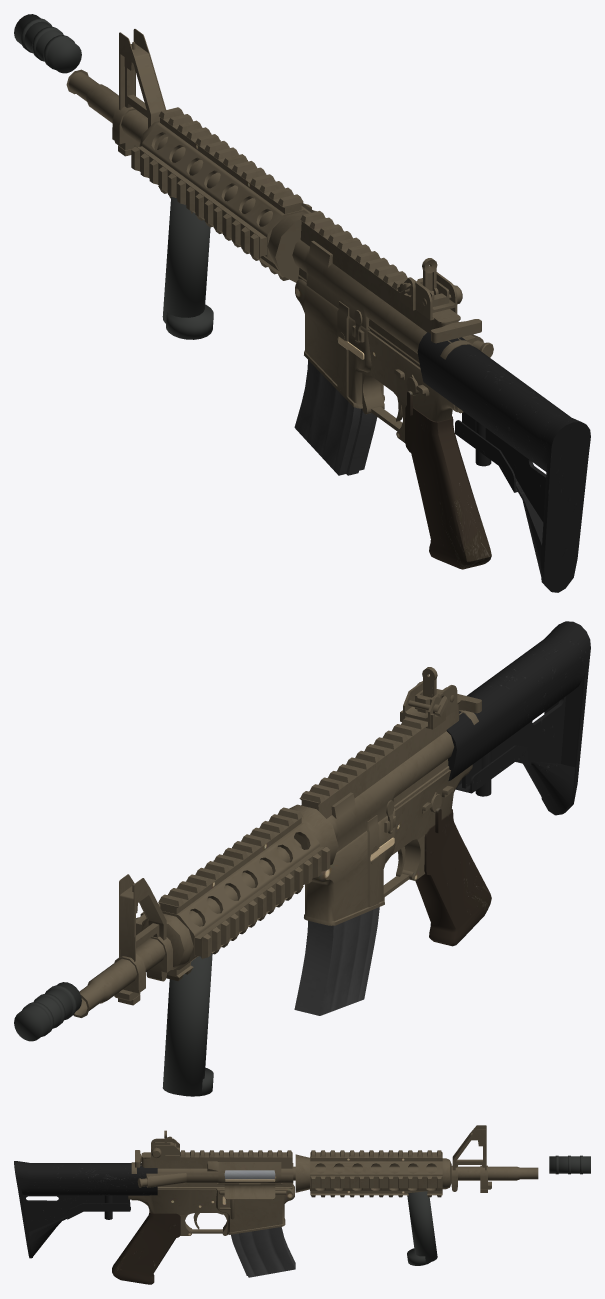
Rendered from world_carbine.glb.
3 views of the same model, one above another, from view 1: azimuth 30°, elevation 25°; view 2: azimuth 150°, elevation 25°; view 3: azimuth 270°, elevation 25° (orthographic). The views are drawn at different scales.
Visible parts, largest first — view 1: Barrel, Adjustable stock, Magazine, Foregrip, Brake, ForegripCap; view 2: Barrel, Adjustable stock, Magazine, Foregrip, Brake; view 3: Barrel, Adjustable stock, Magazine, Foregrip, Brake, Bolt carrier, ForegripCap.
Boxes of the visible parts, box(x1,y1,x2,y2) form: Barrel: box(66, 29, 493, 569); Adjustable stock: box(417, 332, 590, 592); Magazine: box(294, 360, 377, 475); Foregrip: box(162, 197, 210, 323); Brake: box(14, 14, 81, 73); ForegripCap: box(166, 304, 213, 339); Barrel: box(73, 667, 491, 1017); Adjustable stock: box(446, 621, 590, 815); Magazine: box(294, 907, 379, 1015); Foregrip: box(162, 953, 212, 1095); Brake: box(14, 982, 81, 1041); Barrel: box(112, 1125, 538, 1284); Adjustable stock: box(14, 1161, 157, 1258); Magazine: box(231, 1227, 295, 1277); Foregrip: box(407, 1191, 437, 1262); Brake: box(549, 1156, 590, 1173); Bolt carrier: box(224, 1170, 275, 1179); ForegripCap: box(407, 1248, 430, 1265).
Bounding box in the file's own units: 0.0636 × 0.2256 × 0.7605.
Materials: 3 (2 with a texture image).
